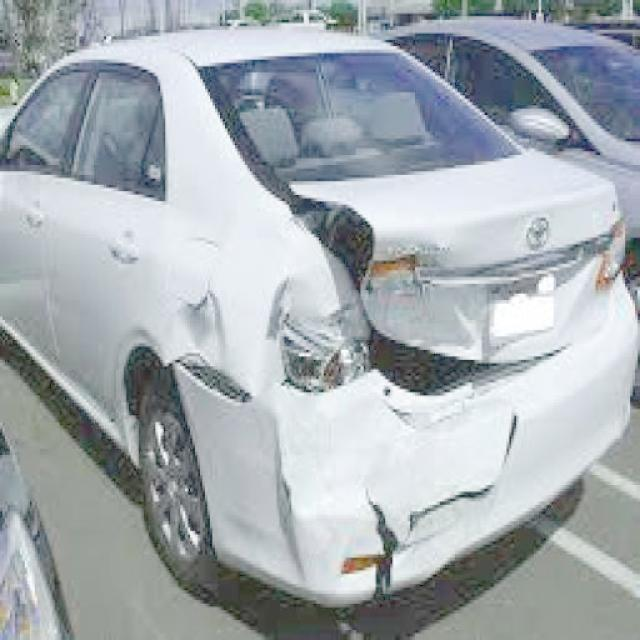car damage: (158, 176, 618, 604)
